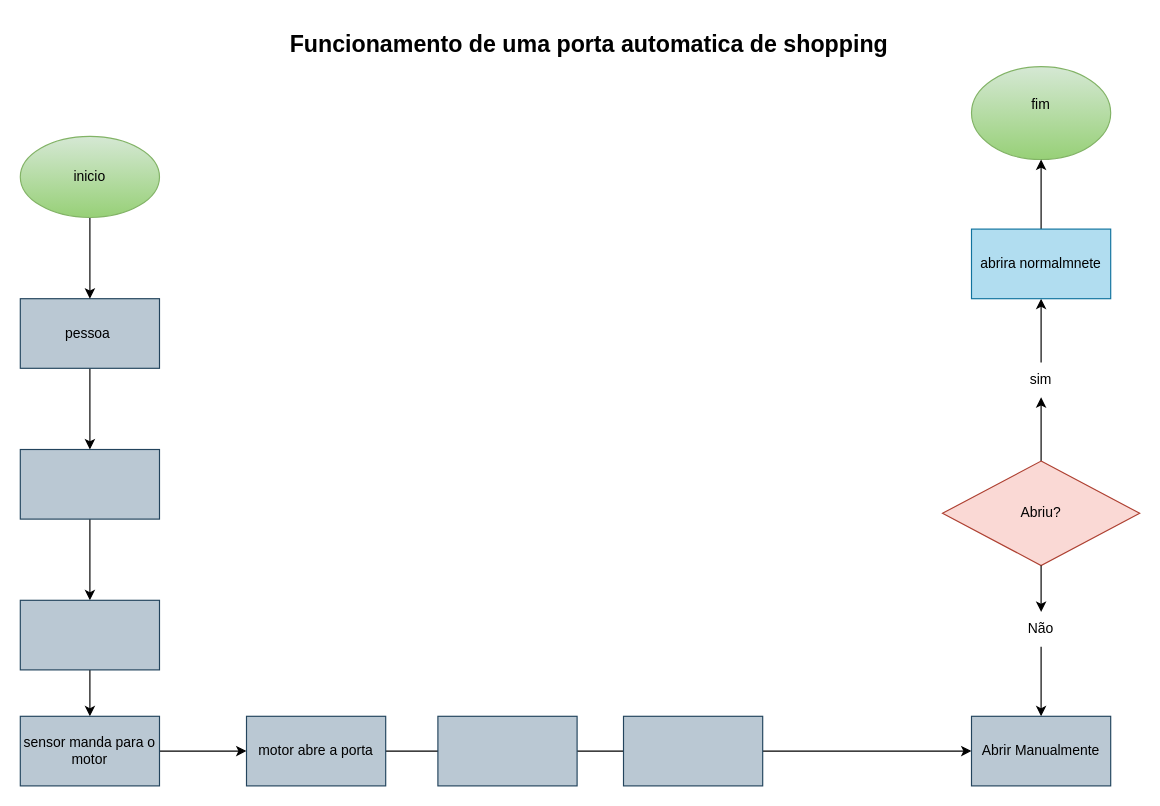
The diagram is 1160 pixels wide and 806 high, and some of its shapes have lost their labels. The shapes that lost their labels are listed below. From the top down, each one's centre as x and y in pixels, then its label:
At pixel 89 483: "porta de vidro".
At pixel 89 634: "sensor lê a pessoa".
At pixel 507 750: "pessoa passa da porta".
At pixel 692 750: "porta fecha".
